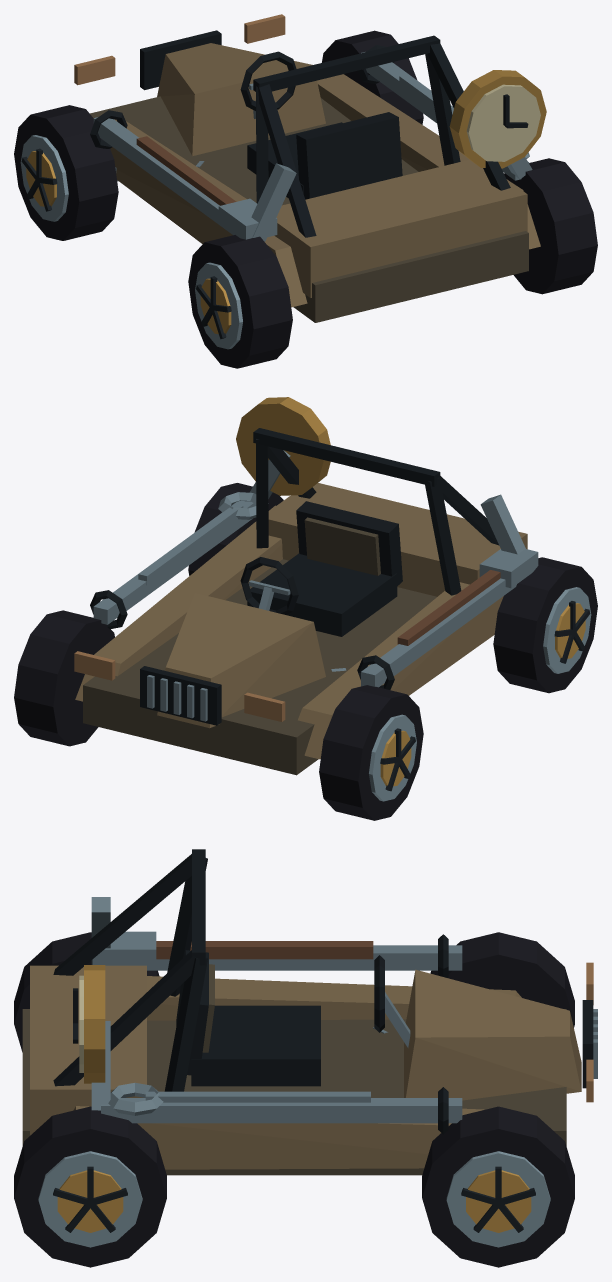
File: kart.glb
3 views of the same model, one above another, from view 1: azimuth 30°, elevation 25°; view 2: azimuth 150°, elevation 25°; view 3: azimuth 270°, elevation 25° (orthographic). The views are drawn at different scales.
Parts seen in each view (by area): view 1: identity-buggy-buggy-offroad-frame, wheel-rear-left, wheel-front-left, identity-buggy-driver-cockpit, wheel-rear-right, identity-buggy-motif-clock, identity-buggy-motif-pipes, identity-buggy-motif-tools, wheel-front-right; view 2: identity-buggy-buggy-offroad-frame, identity-buggy-driver-cockpit, wheel-front-left, wheel-rear-left, wheel-front-right, identity-buggy-motif-pipes, identity-buggy-motif-tools, identity-buggy-motif-clock, wheel-rear-right; view 3: identity-buggy-buggy-offroad-frame, wheel-front-right, wheel-rear-right, identity-buggy-motif-pipes, identity-buggy-driver-cockpit, identity-buggy-motif-tools, wheel-front-left, identity-buggy-motif-clock, wheel-rear-left.
Boxes of the visible parts, x1,y1,x2,y2 form: identity-buggy-buggy-offroad-frame: (74, 14, 540, 322); wheel-rear-left: (188, 235, 292, 368); wheel-front-left: (14, 105, 118, 240); identity-buggy-driver-cockpit: (240, 51, 402, 199); wheel-rear-right: (504, 158, 597, 294); identity-buggy-motif-clock: (449, 70, 546, 168); identity-buggy-motif-pipes: (90, 45, 532, 241); identity-buggy-motif-tools: (136, 74, 529, 239); wheel-front-right: (322, 30, 423, 124); identity-buggy-buggy-offroad-frame: (74, 428, 527, 775); identity-buggy-driver-cockpit: (240, 501, 402, 636); wheel-front-left: (319, 685, 423, 820); wheel-rear-left: (493, 557, 597, 693); wheel-front-right: (14, 610, 114, 746); identity-buggy-motif-pipes: (90, 450, 525, 689); identity-buggy-motif-tools: (138, 492, 538, 645); identity-buggy-motif-clock: (236, 397, 330, 495); wheel-rear-right: (188, 483, 283, 575); identity-buggy-buggy-offroad-frame: (22, 849, 597, 1175); wheel-front-right: (422, 1106, 574, 1267); wheel-rear-right: (14, 1106, 166, 1267); identity-buggy-motif-pipes: (91, 897, 462, 1134); identity-buggy-driver-cockpit: (176, 950, 410, 1086); identity-buggy-motif-tools: (92, 931, 373, 1115); wheel-front-left: (430, 932, 574, 1027); identity-buggy-motif-clock: (73, 965, 105, 1083); wheel-rear-left: (14, 932, 159, 1052).
Bounding box in the file's own units: 2.31 × 1.39 × 2.75.
